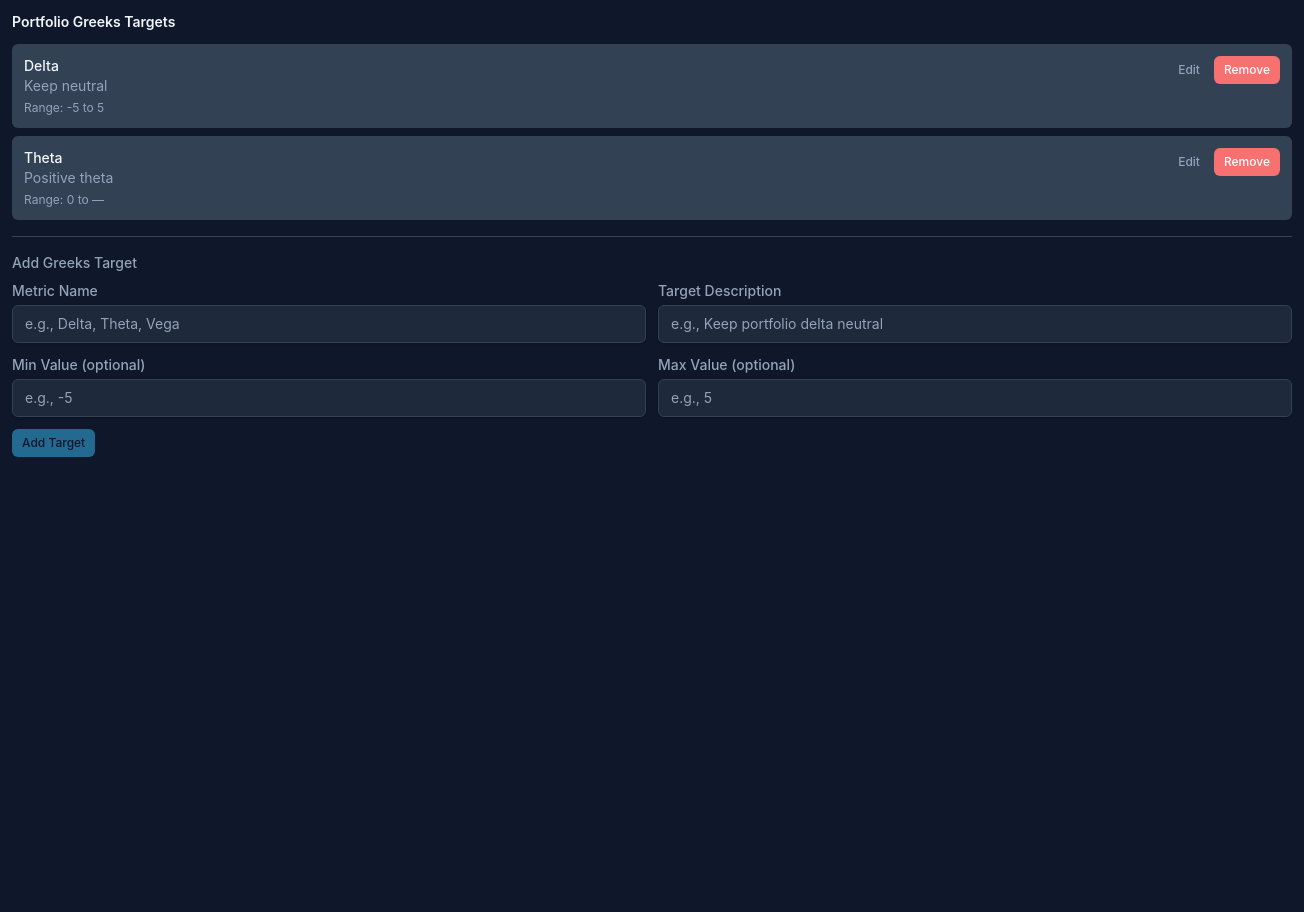
Scenario: GreeksSection › enters edit mode and saves changes
Click the button with aria-label "edit target: delta" at (1189, 70), box left=1168, top=56, right=1210, bottom=84
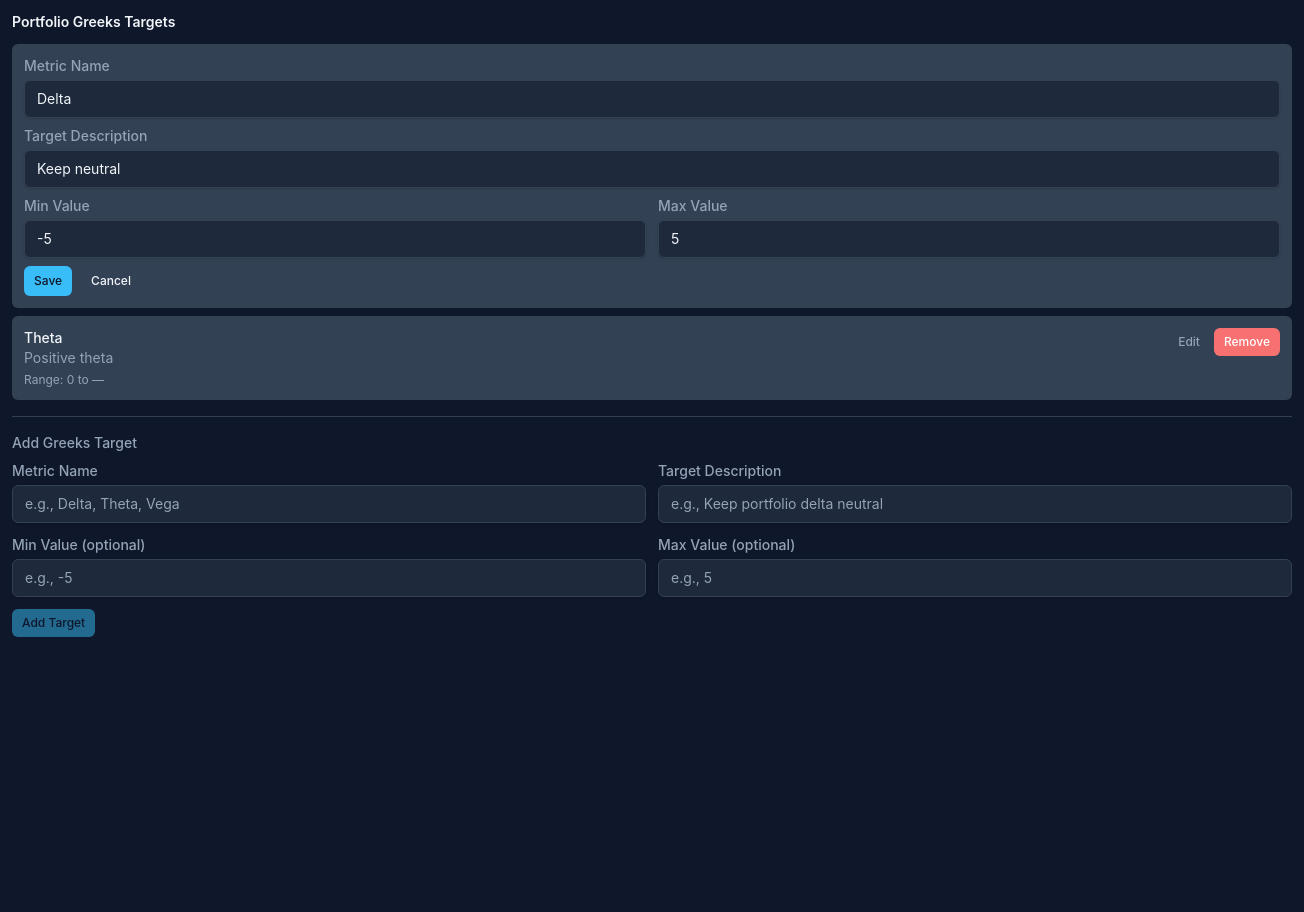
Expected: the 1st field showing "Keep neutral" is shown
Replace the text in the 1st field showing "Keep neutral" with "Updated description" at (652, 169), box left=24, top=150, right=1280, bottom=188
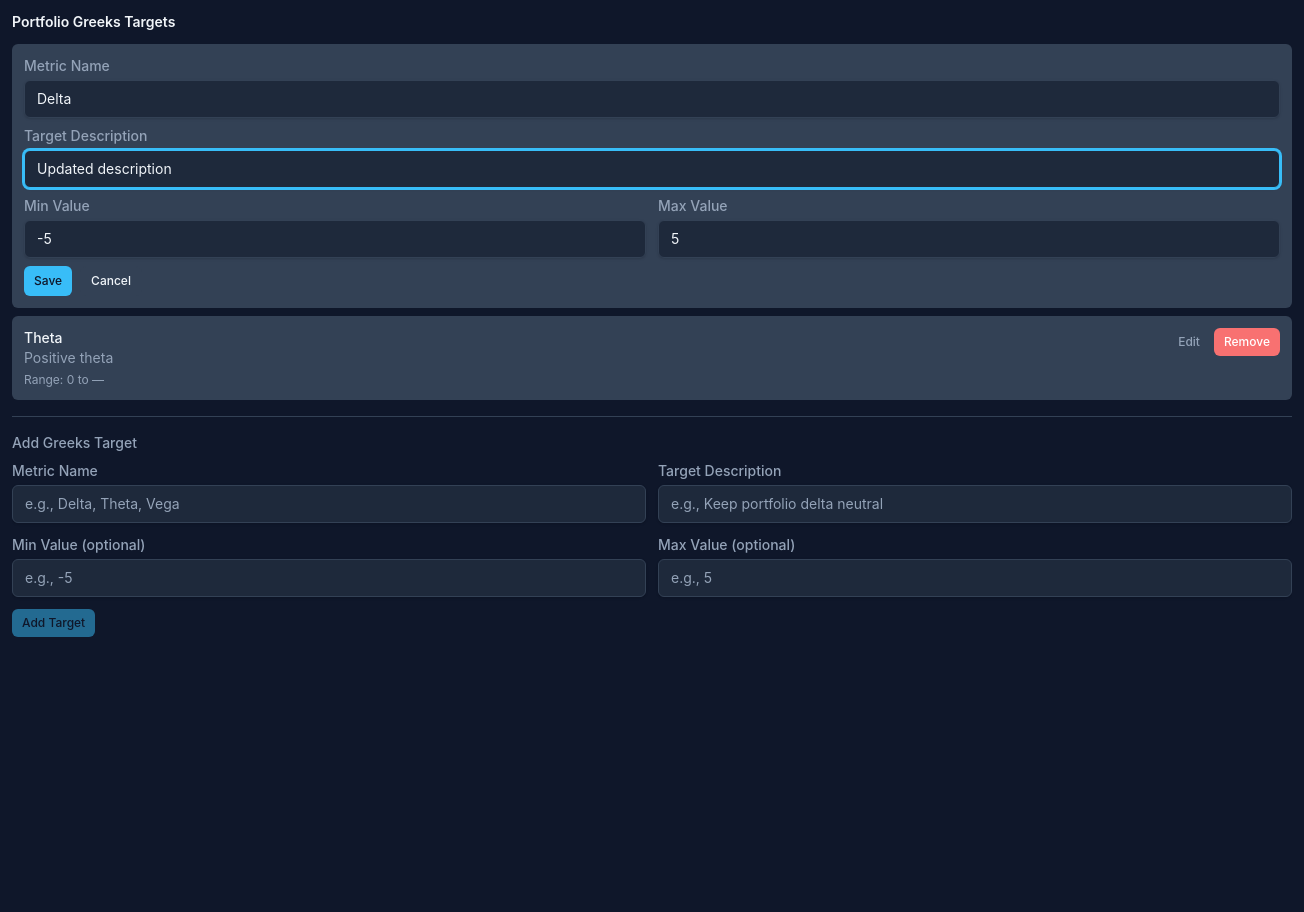
Click the button "Save" at (48, 281), box left=24, top=266, right=72, bottom=296
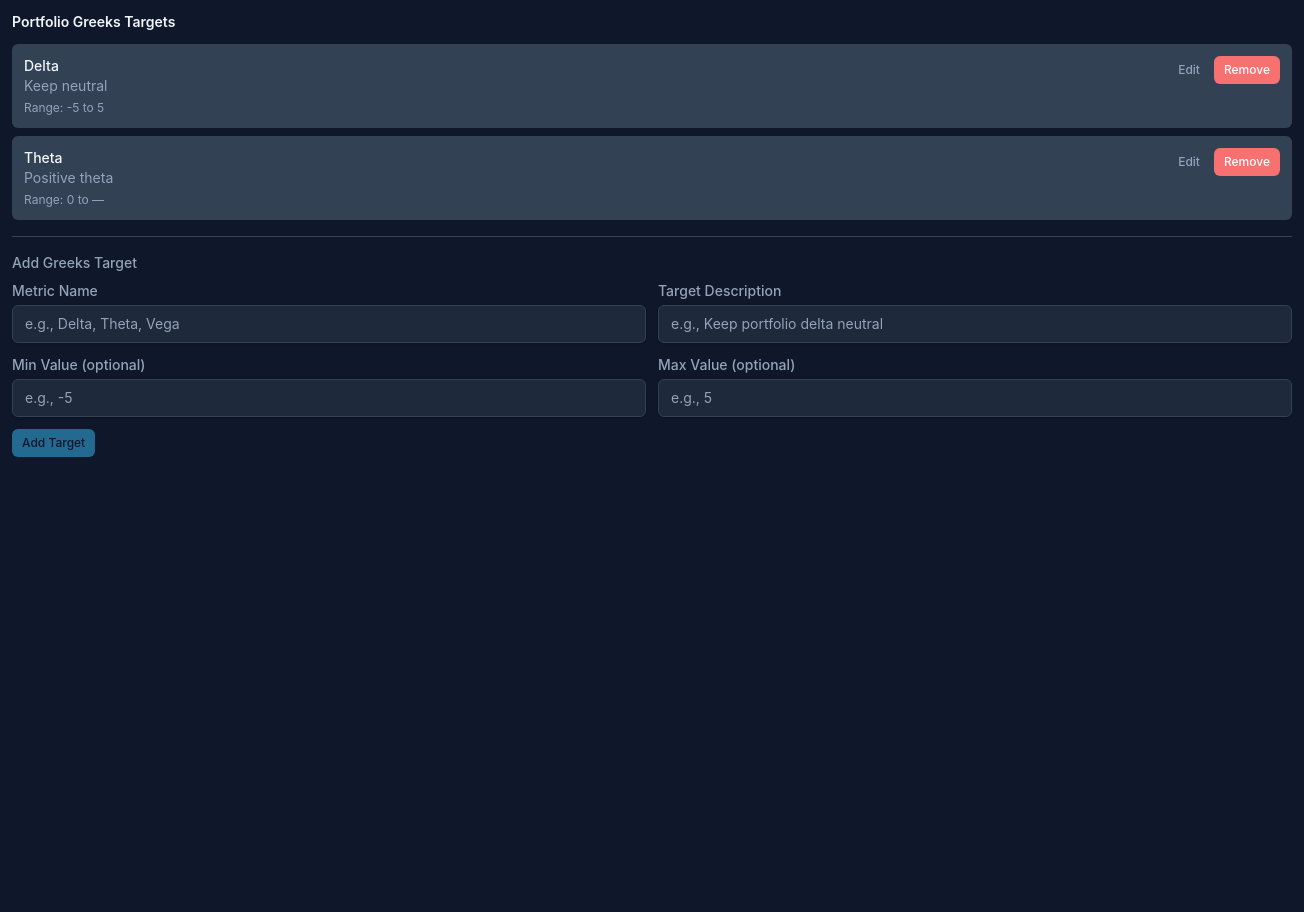
Expected: the text "Delta" is shown, left=24, top=57, right=59, bottom=74
